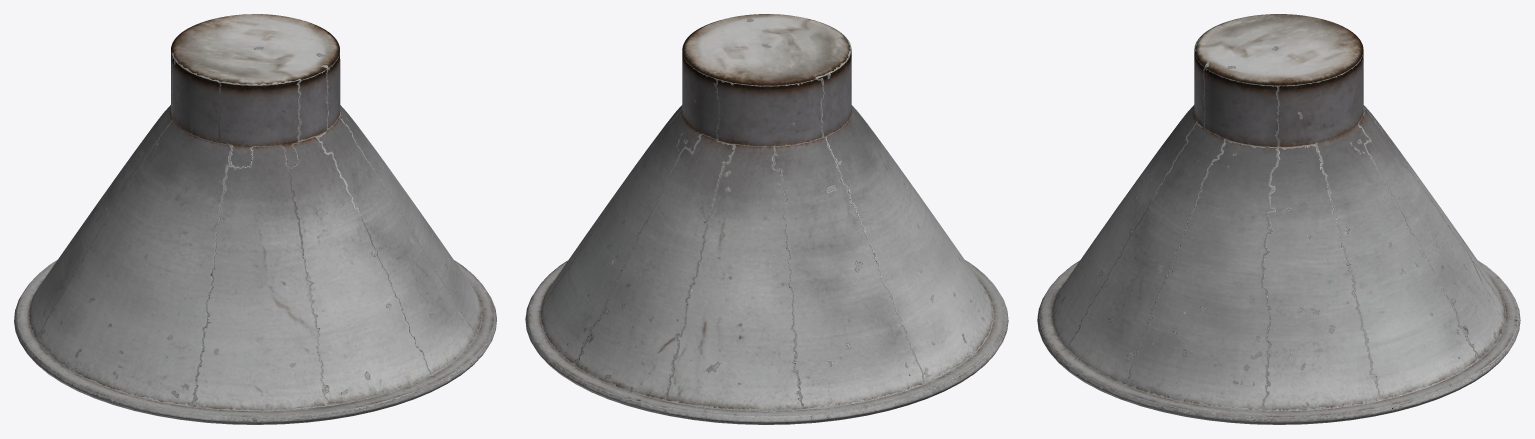
3 renders of one model, left to right at view 1: azimuth 30°, elevation 25°; view 2: azimuth 150°, elevation 25°; view 3: azimuth 270°, elevation 25°, orthographic.
Bounding box in the file's own units: 1.71 × 1.09 × 1.71.
Materials: 1 (1 with a texture image).
